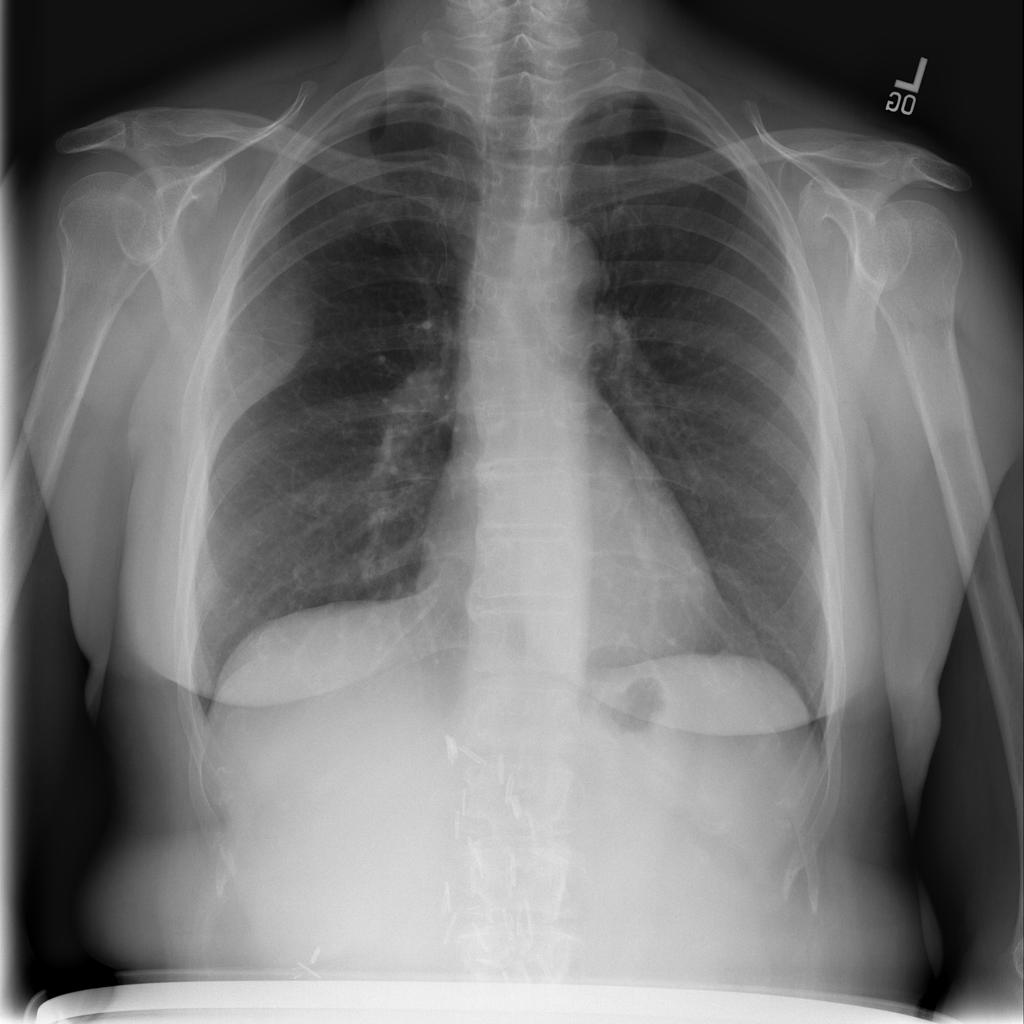nodule: (203, 264, 331, 414)
